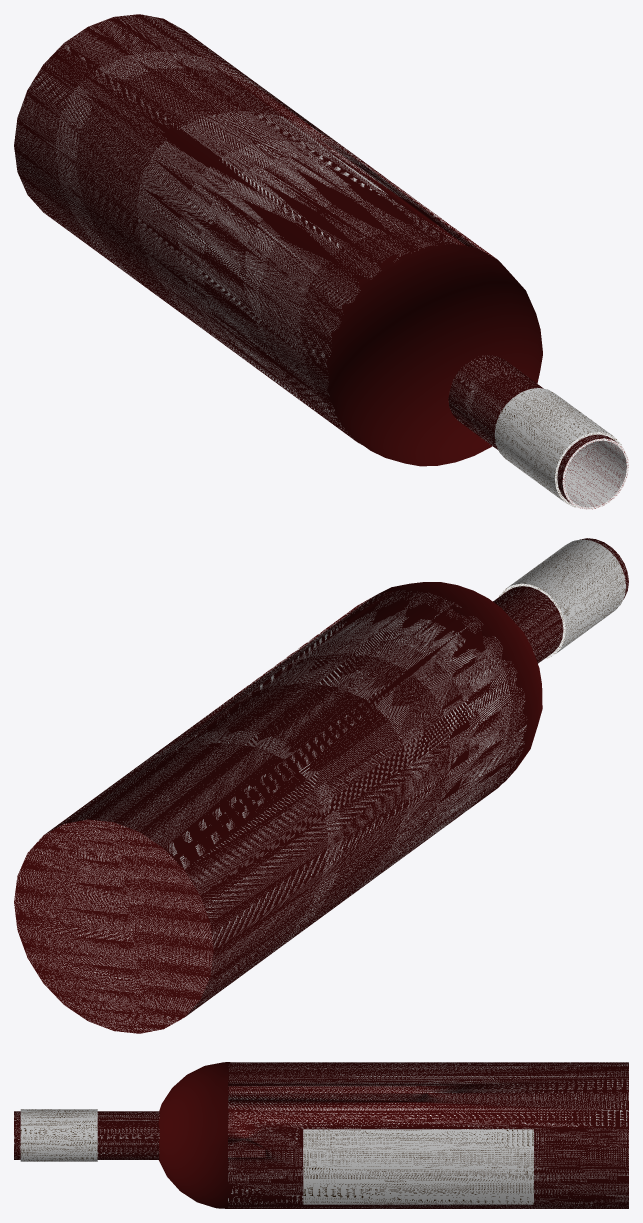
Rendered from model_align.obj.
3 views of the same model, one above another, from view 1: azimuth 30°, elevation 25°; view 2: azimuth 150°, elevation 25°; view 3: azimuth 270°, elevation 25° (orthographic). The views are drawn at different scales.
Parts seen in each view (by area): view 1: mesh1_mesh1-geometry, mesh2_mesh2-geometry; view 2: mesh1_mesh1-geometry, mesh2_mesh2-geometry; view 3: mesh1_mesh1-geometry, mesh2_mesh2-geometry.
Part boxes in pixels (x1,y1,x2,y2): mesh1_mesh1-geometry: (14, 14, 542, 466); mesh2_mesh2-geometry: (448, 355, 628, 509); mesh1_mesh1-geometry: (14, 582, 542, 1033); mesh2_mesh2-geometry: (493, 538, 628, 663); mesh1_mesh1-geometry: (158, 1062, 628, 1208); mesh2_mesh2-geometry: (14, 1109, 159, 1161).
Size of the model in its own units: 0.0496 by 0.0496 by 0.2076.
